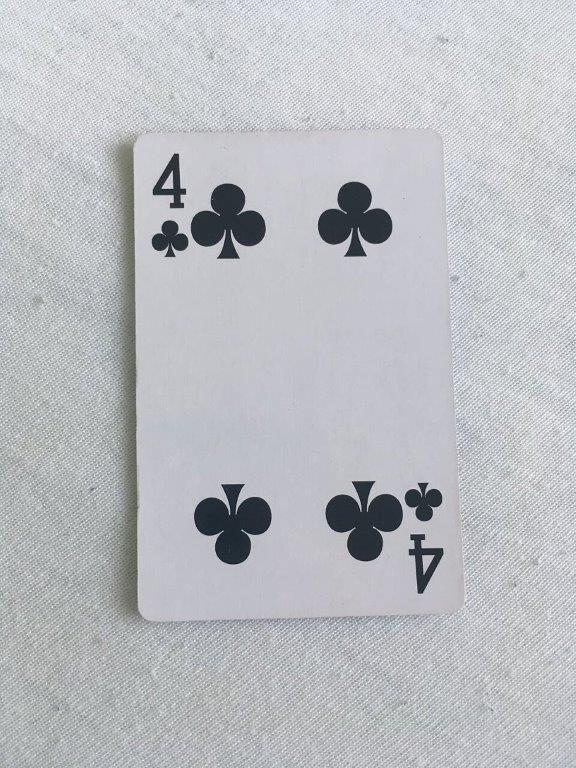4C: (129, 126, 468, 626)
